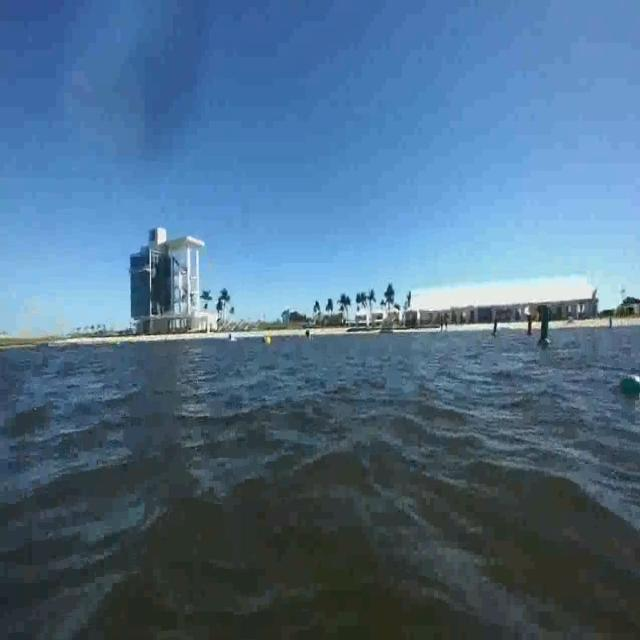green-buoy: (620, 376, 640, 396)
green-column-buoy: (535, 304, 553, 347)
yellow-buoy: (267, 336, 273, 347)
